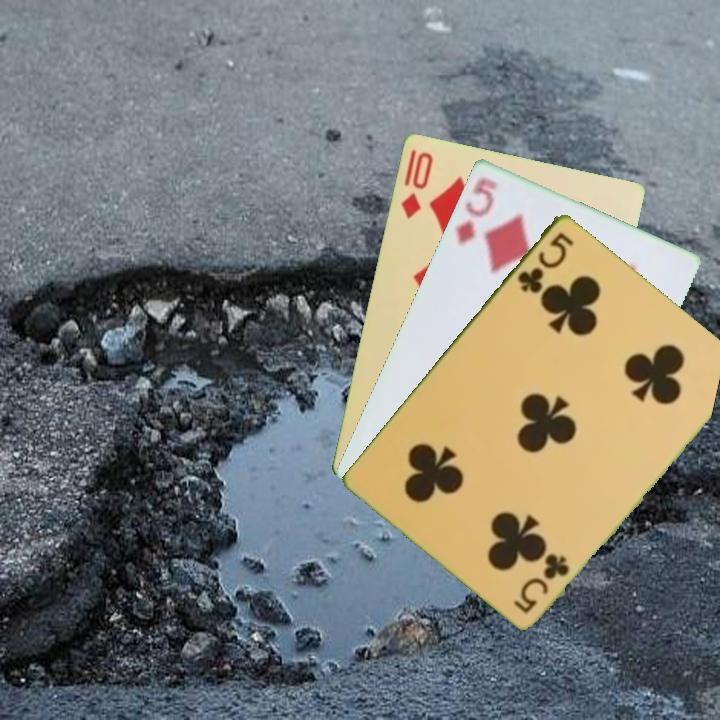10d: (397, 148, 436, 222)
5c: (513, 227, 577, 296), (510, 550, 573, 616)
5d: (451, 172, 500, 247)
